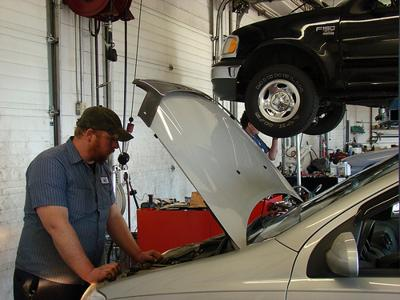person: (9, 103, 166, 300)
